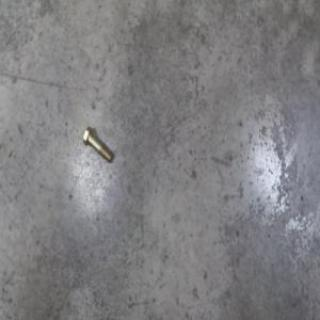Bolttrack_idkeyframe: (80, 126, 112, 165)
